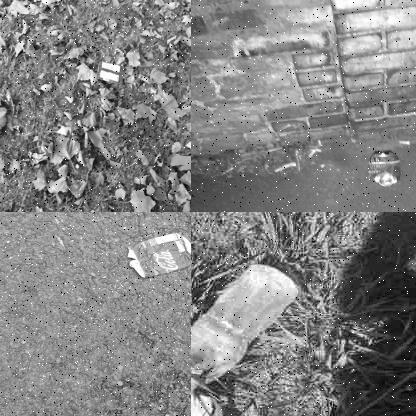metal: (117, 235, 190, 278), (368, 147, 404, 190)
plastic: (191, 258, 299, 395), (97, 56, 126, 91)
